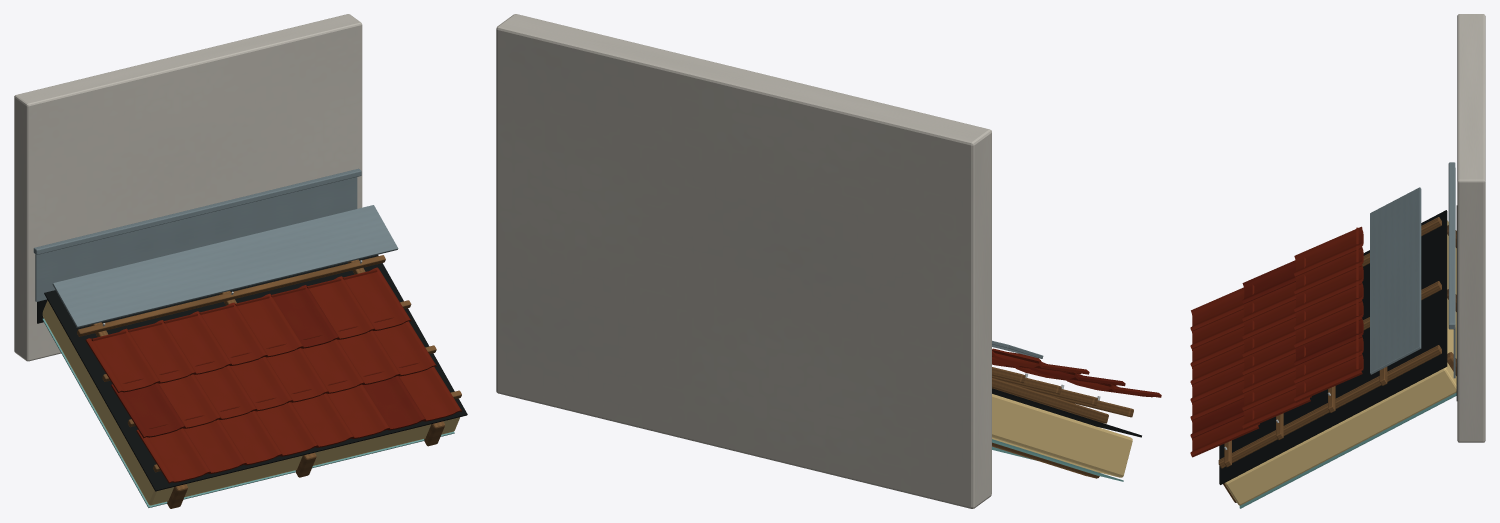
File: modell.glb
3 views of the same model, side by side, from view 1: azimuth 30°, elevation 25°; view 2: azimuth 150°, elevation 25°; view 3: azimuth 270°, elevation 25° (orthographic). The views are drawn at different scales.
Parts seen in each view (by area): view 1: s07-wand_, s07-deckziegel_deckung, s07-anschlussblech_deckung, s07-zusatzebene_zusatzebene, s07-daemmung_daemmung, s07-deckziegel_deckung.001, s07-lattung_lattung, s07-anschlussblech_, s07-luftdichtheit_luftdichtheit, s07-sparren_tragwerk; view 2: s07-wand_, s07-daemmung_daemmung, s07-lattung_lattung, s07-deckziegel_deckung, s07-zusatzebene_zusatzebene; view 3: s07-deckziegel_deckung, s07-wand_, s07-zusatzebene_zusatzebene, s07-anschlussblech_deckung, s07-daemmung_daemmung, s07-lattung_lattung, s07-deckziegel_deckung.001, s07-anschlussblech_, s07-luftdichtheit_luftdichtheit, s07-zusatzebene_zusatzebene.001.
Boxes of the visible parts, bbox=[...] form: s07-wand_: bbox=[14, 14, 362, 361]; s07-deckziegel_deckung: bbox=[85, 267, 461, 483]; s07-anschlussblech_deckung: bbox=[35, 177, 398, 327]; s07-zusatzebene_zusatzebene: bbox=[44, 255, 467, 491]; s07-daemmung_daemmung: bbox=[42, 300, 460, 505]; s07-deckziegel_deckung.001: bbox=[111, 285, 425, 438]; s07-lattung_lattung: bbox=[77, 255, 461, 472]; s07-anschlussblech_: bbox=[33, 168, 361, 254]; s07-luftdichtheit_luftdichtheit: bbox=[42, 318, 454, 507]; s07-sparren_tragwerk: bbox=[167, 421, 444, 508]; s07-wand_: bbox=[496, 14, 991, 508]; s07-daemmung_daemmung: bbox=[992, 394, 1132, 477]; s07-lattung_lattung: bbox=[992, 367, 1133, 423]; s07-deckziegel_deckung: bbox=[992, 348, 1161, 397]; s07-zusatzebene_zusatzebene: bbox=[992, 388, 1141, 437]; s07-deckziegel_deckung: bbox=[1190, 226, 1363, 457]; s07-wand_: bbox=[1457, 14, 1485, 442]; s07-zusatzebene_zusatzebene: bbox=[1219, 210, 1447, 484]; s07-anschlussblech_deckung: bbox=[1370, 168, 1455, 378]; s07-daemmung_daemmung: bbox=[1225, 220, 1456, 505]; s07-lattung_lattung: bbox=[1218, 217, 1441, 468]; s07-deckziegel_deckung.001: bbox=[1190, 260, 1363, 438]; s07-anschlussblech_: bbox=[1448, 162, 1455, 329]; s07-luftdichtheit_luftdichtheit: bbox=[1239, 392, 1456, 508]; s07-zusatzebene_zusatzebene.001: bbox=[1456, 205, 1457, 400].
Bounding box in the file's own units: 2.25 × 2.13 × 1.68.
9 materials, 5 textured.
